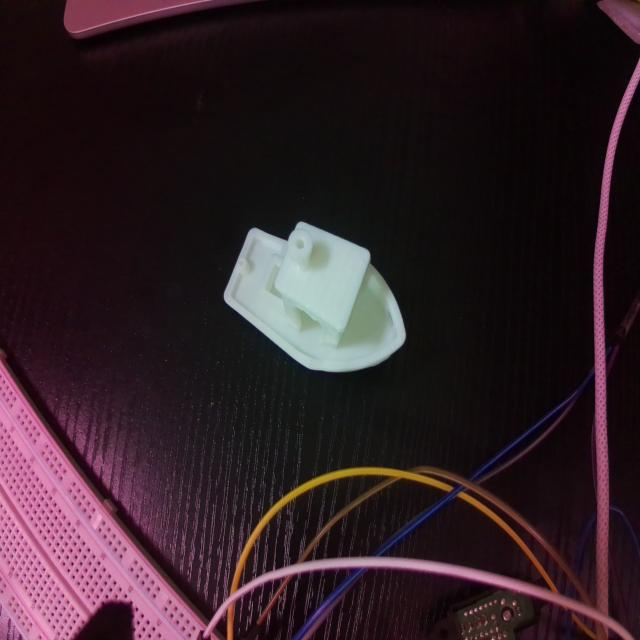ship: (224, 218, 406, 374)
